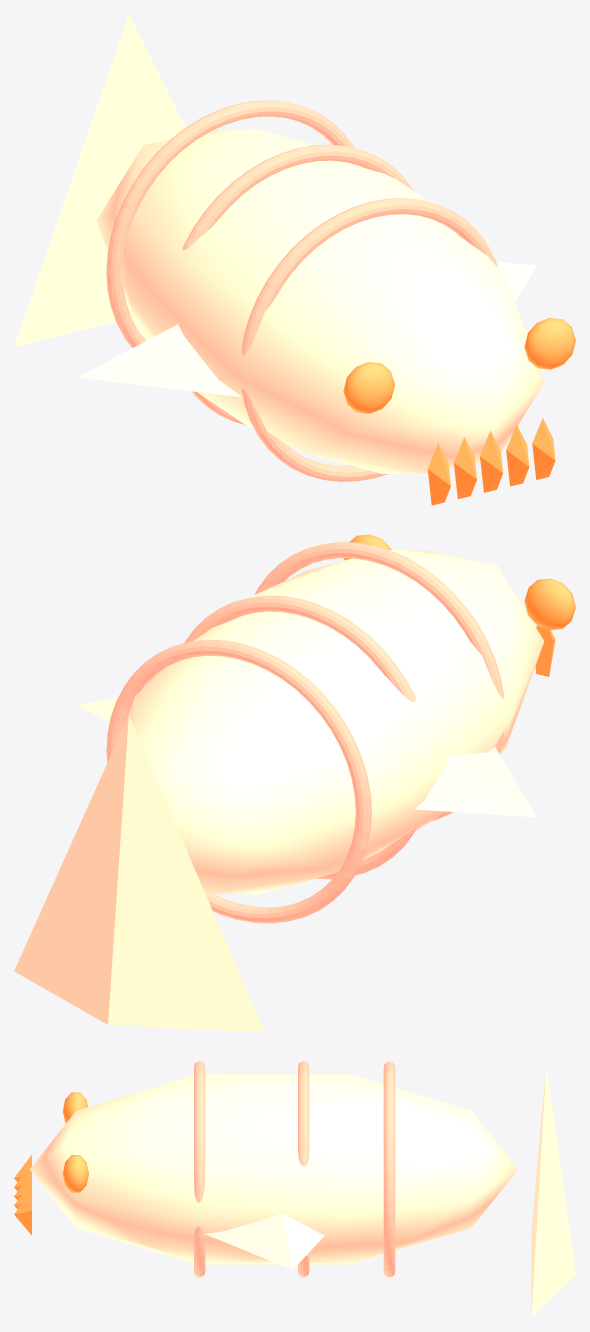
The model's file is reef-fang.glb.
3 renders of one model, top to bottom at view 1: azimuth 30°, elevation 25°; view 2: azimuth 150°, elevation 25°; view 3: azimuth 270°, elevation 25°, orthographic. The views are drawn at different scales.
Parts seen in each view (by area): view 1: body, swim-tail, biolight-ring, biolight-ring.002, swim-fin--1, biolight-ring.001, eye-1, eye--1, fang-2, fang-1, fang--1, fang--2 (+2 smaller); view 2: body, swim-tail, biolight-ring.002, biolight-ring, swim-fin--1, biolight-ring.001, eye--1, fang--2; view 3: body, swim-tail, swim-fin-1, biolight-ring.002, biolight-ring, biolight-ring.001, eye-1, eye--1, fang-2.
Part boxes in pixels (left/top/right/bottom): body: left=96, top=129, right=544, bottom=474; swim-tail: left=14, top=15, right=185, bottom=346; biolight-ring: left=241, top=198, right=497, bottom=481; biolight-ring.002: left=106, top=100, right=354, bottom=348; swim-fin--1: left=78, top=324, right=242, bottom=397; biolight-ring.001: left=182, top=144, right=414, bottom=425; eye-1: left=524, top=318, right=575, bottom=369; eye--1: left=343, top=362, right=394, bottom=413; fang-2: left=532, top=418, right=555, bottom=479; fang-1: left=506, top=424, right=529, bottom=486; fang--1: left=454, top=437, right=476, bottom=498; fang--2: left=427, top=443, right=450, bottom=505; body: left=126, top=550, right=544, bottom=894; swim-tail: left=14, top=715, right=264, bottom=1032; biolight-ring.002: left=106, top=639, right=371, bottom=923; biolight-ring: left=254, top=542, right=504, bottom=821; swim-fin--1: left=414, top=747, right=536, bottom=817; biolight-ring.001: left=184, top=595, right=416, bottom=879; eye--1: left=524, top=578, right=575, bottom=630; fang--2: left=535, top=625, right=555, bottom=676; body: left=30, top=1074, right=517, bottom=1264; swim-tail: left=531, top=1066, right=575, bottom=1317; swim-fin-1: left=205, top=1212, right=324, bottom=1269; biolight-ring.002: left=383, top=1061, right=395, bottom=1277; biolight-ring: left=194, top=1061, right=205, bottom=1277; biolight-ring.001: left=298, top=1061, right=309, bottom=1277; eye-1: left=62, top=1155, right=88, bottom=1192; eye--1: left=62, top=1092, right=87, bottom=1122; fang-2: left=14, top=1191, right=31, bottom=1235.
Size of the model in its own units: 2.29 by 1.4 by 3.4.
